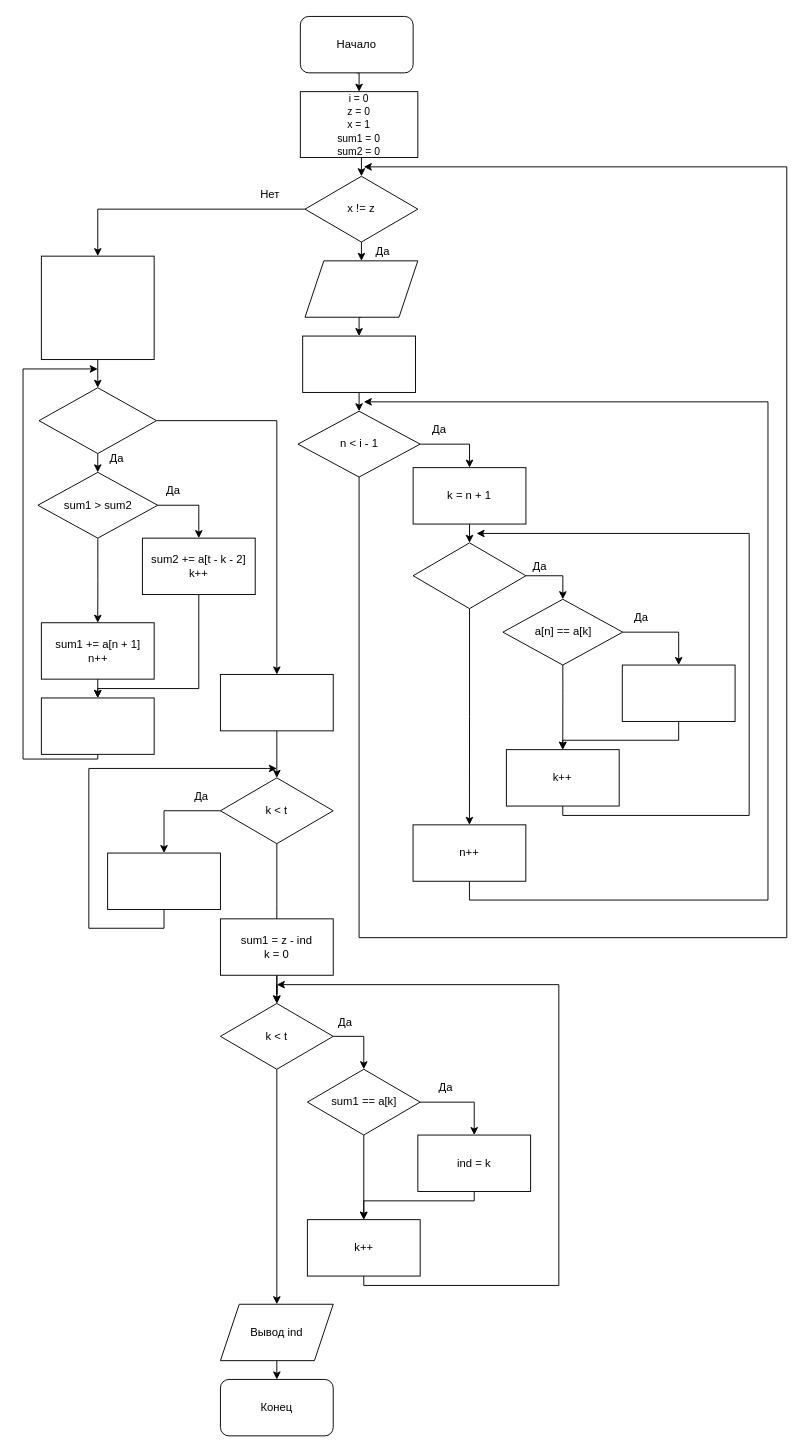
This 811x1452 diagram has some shape labels left out. The shapes that lost their labels are listed below. From the top down, each one's box as (x1, y1, x2, y2) in pixels, then its label:
(40, 255, 154, 360): t = i i -= 2 n = 0 k = 0 sum1 = a[n] sum2 = a[t - n - 1]
(304, 260, 418, 317): Ввод a[i]
(302, 335, 415, 392): i++ n = 0
(38, 387, 157, 454): i != 1
(412, 542, 526, 609): k < i
(219, 674, 333, 731): z = 0 ind = sum1 + sum2 k = 0
(621, 664, 735, 721): z++
(40, 697, 154, 754): i--
(107, 852, 220, 909): z += a[k] k++
